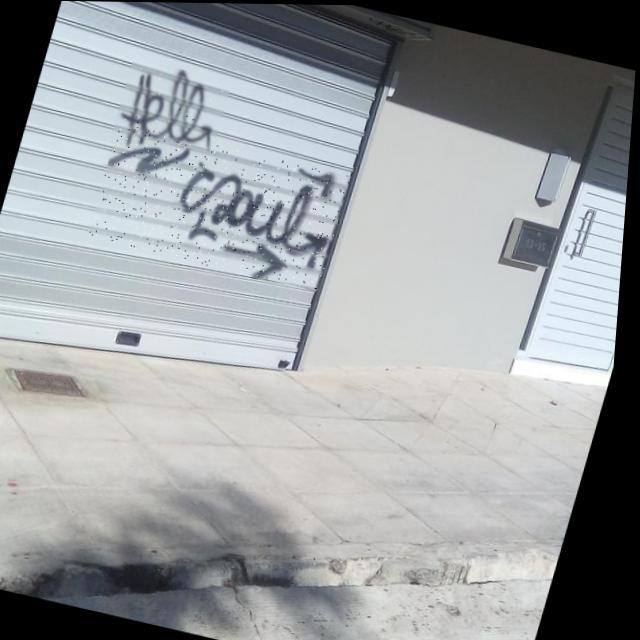-: (87, 122, 356, 290), (110, 57, 234, 162)
